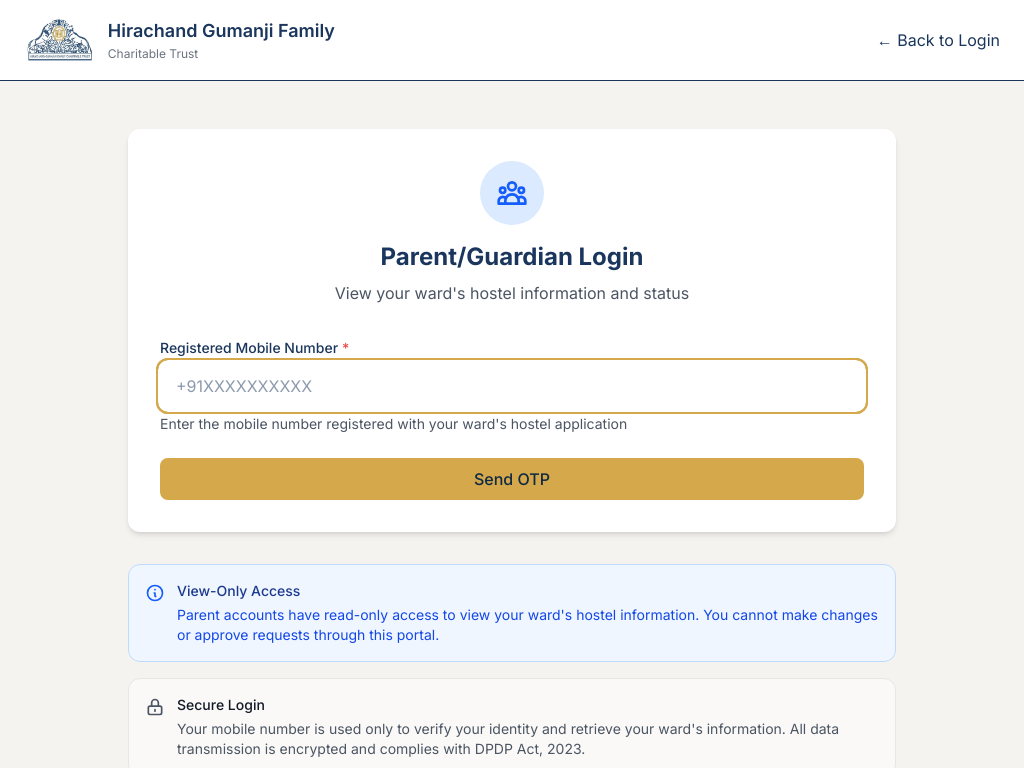
Test: Task 8 - Parent/Guardian View-only Login › Entry Flow and OTP Verification › validates mobile format (must be 10 digits, starts with 6-9)
Type "123" into the field labelled "Registered Mobile Number*".
click(512, 386); type("123")  # box [160,362,864,410]
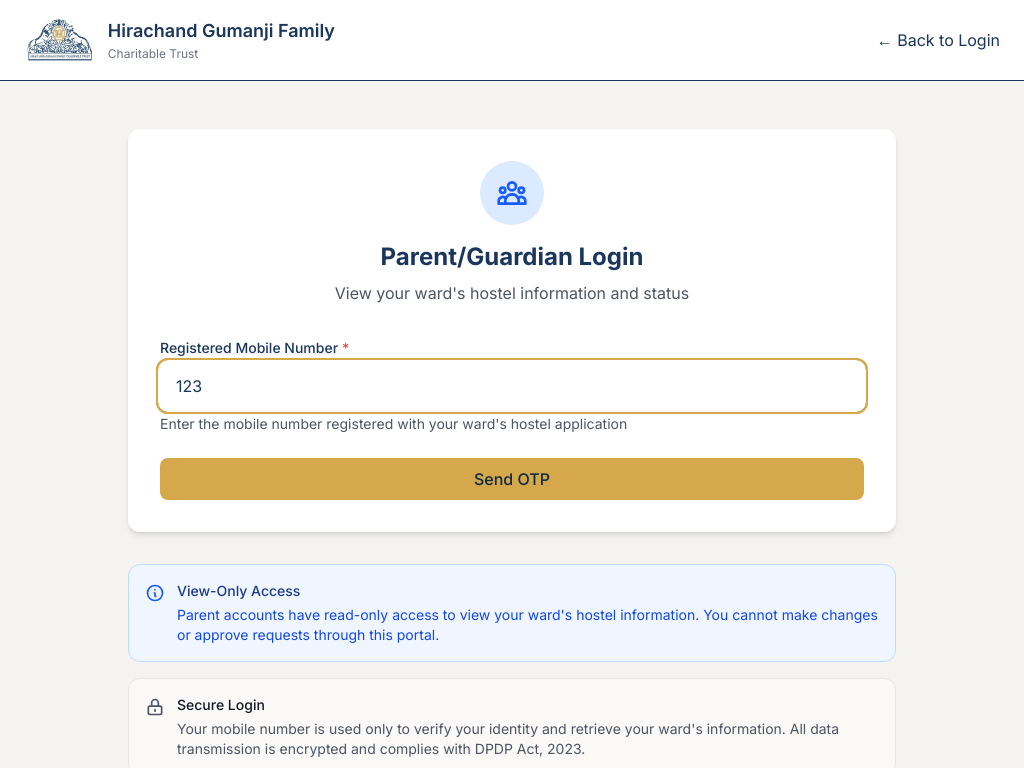
Click the button "Send OTP".
click(512, 479)  # box [160,458,864,500]
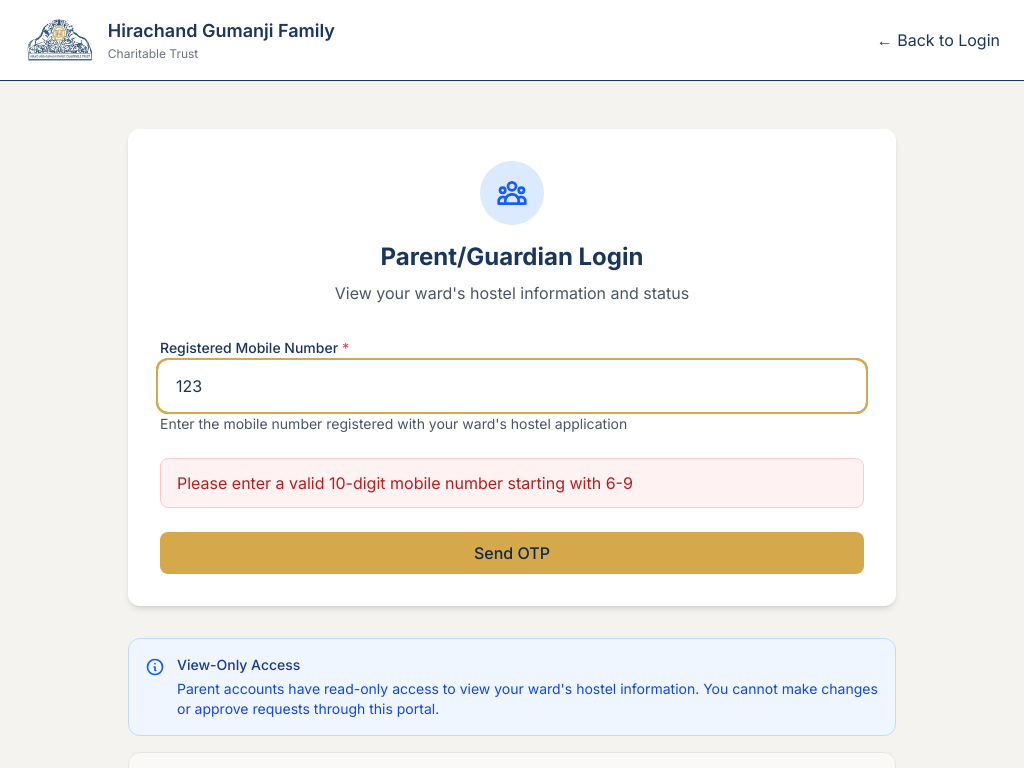
Expected: the text "valid 10-digit mobile number starting with 6-9" is shown, [177,473,633,493]
